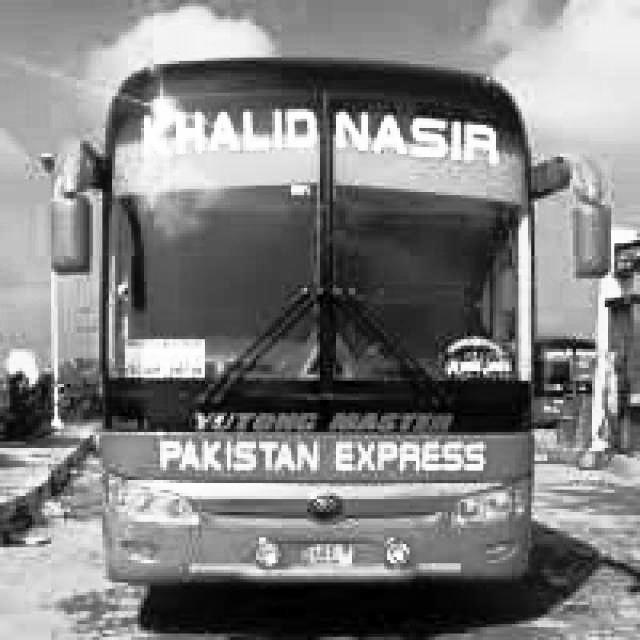Bus: (19, 49, 635, 630)
